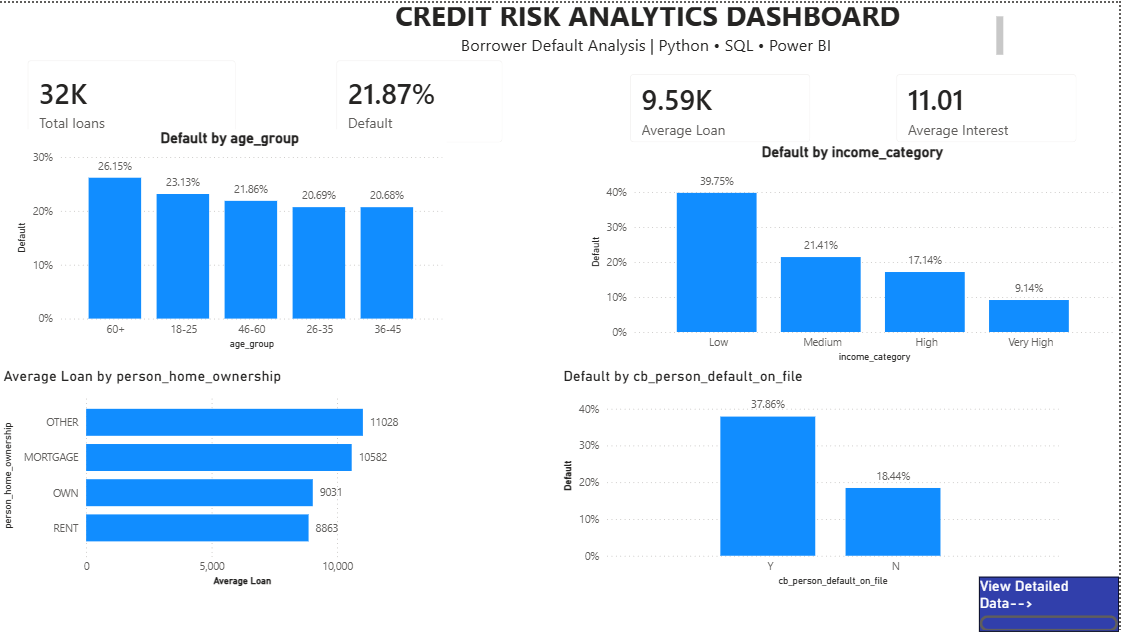

The page's visual inventory and layout, read from the dashboard file:
{"tool":"powerbi","page":{"name":"OverView","canvas":[1280,720],"ordinal":0},"visuals":[{"type":"cardVisual","fields":{"Data":["credit_risk_cleaned.Total loans"]},"box":[16,48,272,128],"z":0},{"type":"cardVisual","fields":{"Data":["credit_risk_cleaned.Default"]},"box":[368,48,224,128],"z":1000},{"type":"cardVisual","fields":{"Data":["credit_risk_cleaned.Average Loan"]},"box":[704,64,240,112],"z":2000},{"type":"cardVisual","fields":{"Data":["credit_risk_cleaned.Average Interest"]},"box":[1008,64,240,112],"z":3000},{"type":"clusteredColumnChart","fields":{"Category":["credit_risk_cleaned.age_group"],"Y":["credit_risk_cleaned.Default"]},"box":[16,144,496,256],"z":4000},{"type":"clusteredColumnChart","fields":{"Category":["credit_risk_cleaned.income_category"],"Y":["credit_risk_cleaned.Default"]},"box":[672,160,608,256],"z":5000},{"type":"clusteredBarChart","fields":{"Category":["credit_risk_cleaned.person_home_ownership"],"Y":["credit_risk_cleaned.Average Loan"]},"box":[0,416,480,256],"z":6000},{"type":"clusteredColumnChart","fields":{"Category":["credit_risk_cleaned.cb_person_default_on_file"],"Y":["credit_risk_cleaned.Default"]},"box":[640,416,576,256],"z":7000},{"type":"textbox","box":[480,464,150,256],"z":8000},{"type":"textbox","box":[288,0,864,64],"z":9000},{"type":"actionButton","title":"View Detailed Data-->","box":[1120,656,160,64],"z":10000}]}

Visuals, with their boxes in screenshot pixels (x1, y1, x2, y2), scaled from the page's 1280x720 canvas onto the 1122x632 screenshot:
cardVisual - credit_risk_cleaned.Total loans: [left=14, top=42, right=252, bottom=154]
cardVisual - credit_risk_cleaned.Default: [left=323, top=42, right=519, bottom=154]
cardVisual - credit_risk_cleaned.Average Loan: [left=617, top=56, right=827, bottom=154]
cardVisual - credit_risk_cleaned.Average Interest: [left=884, top=56, right=1094, bottom=154]
clusteredColumnChart - credit_risk_cleaned.age_group x credit_risk_cleaned.Default: [left=14, top=126, right=449, bottom=351]
clusteredColumnChart - credit_risk_cleaned.income_category x credit_risk_cleaned.Default: [left=589, top=140, right=1121, bottom=365]
clusteredBarChart - credit_risk_cleaned.person_home_ownership x credit_risk_cleaned.Average Loan: [left=0, top=365, right=421, bottom=590]
clusteredColumnChart - credit_risk_cleaned.cb_person_default_on_file x credit_risk_cleaned.Default: [left=561, top=365, right=1066, bottom=590]
textbox: [left=421, top=407, right=552, bottom=631]
textbox: [left=252, top=0, right=1010, bottom=56]
"View Detailed Data-->" actionButton: [left=982, top=576, right=1121, bottom=631]
